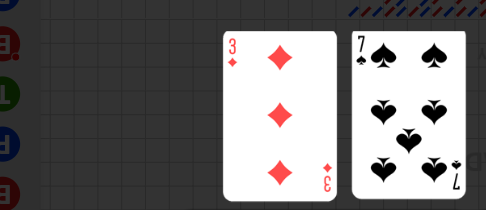3D: (227, 37, 239, 70)
7S: (450, 159, 464, 193)
